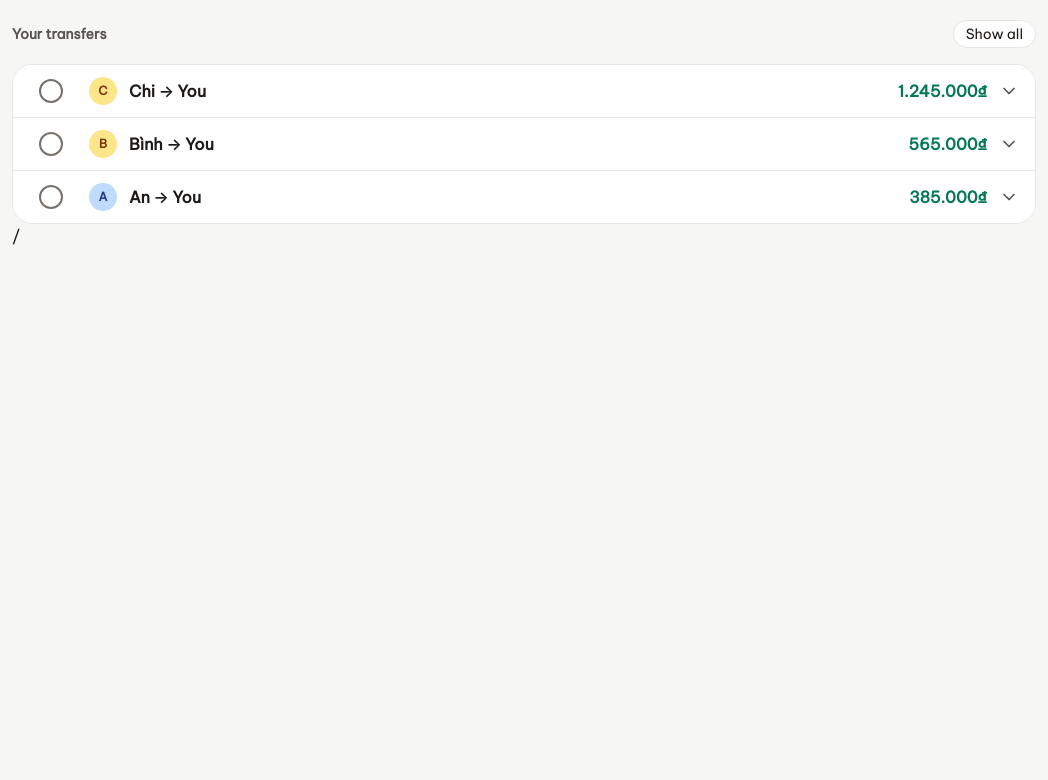
Test case: Your transfers: tick to confirm › a tick that fails to record says so and can be ticked again
Step 1. Click the button named "Mark 385.000₫ from An as received" → (51, 197), box [29,175,73,219]
Wait 5000 ms
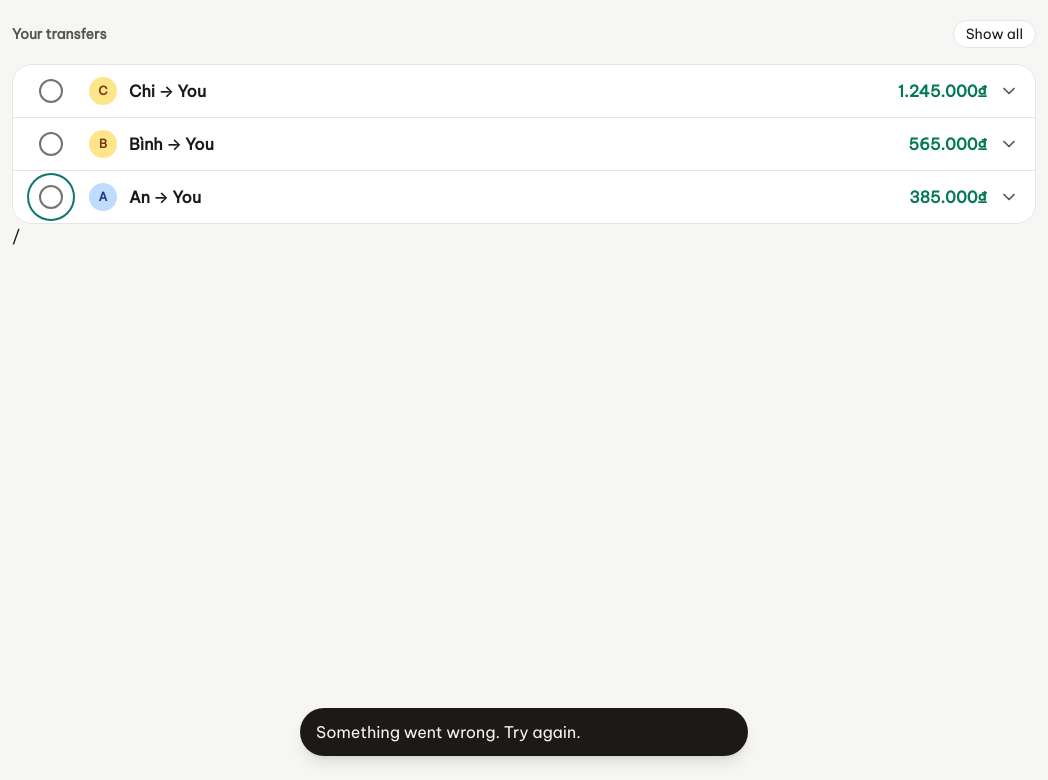
Now the message reads "Something went wrong. Try again.", box [316,722,581,742]
